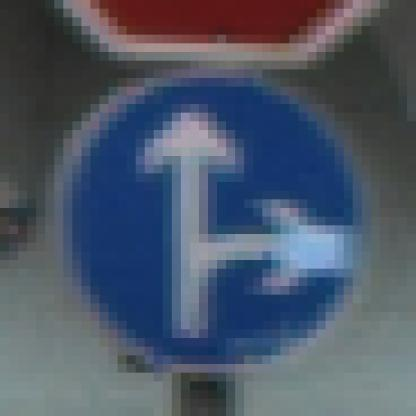Straight or Right: (46, 53, 363, 365)
